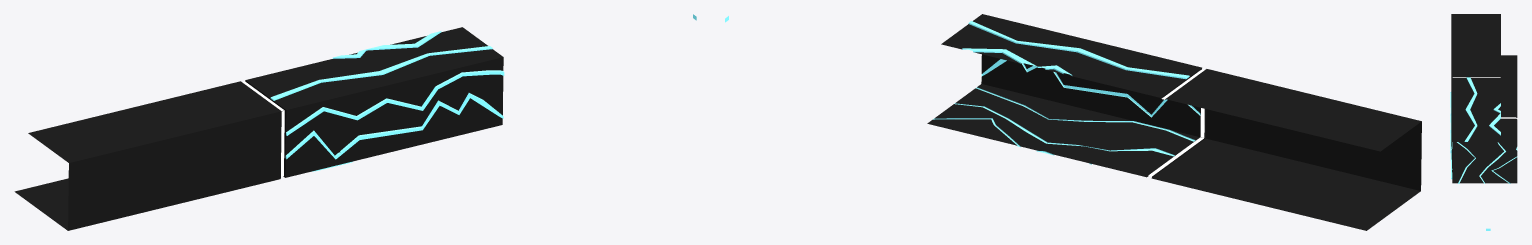
File: Final_Battle_Background.glb
3 renders of one model, left to right at view 1: azimuth 30°, elevation 25°; view 2: azimuth 150°, elevation 25°; view 3: azimuth 270°, elevation 25°, orthographic. The views are drawn at different scales.
Parts seen in each view (by area): view 1: Walls; view 2: Walls; view 3: Walls.
Boxes of the visible parts, x1,y1,x2,y2 form: Walls: (14, 14, 696, 230); Walls: (725, 14, 1421, 230); Walls: (1450, 14, 1517, 230).
Size of the model in its own units: 274 by 28.13 by 40.36.
